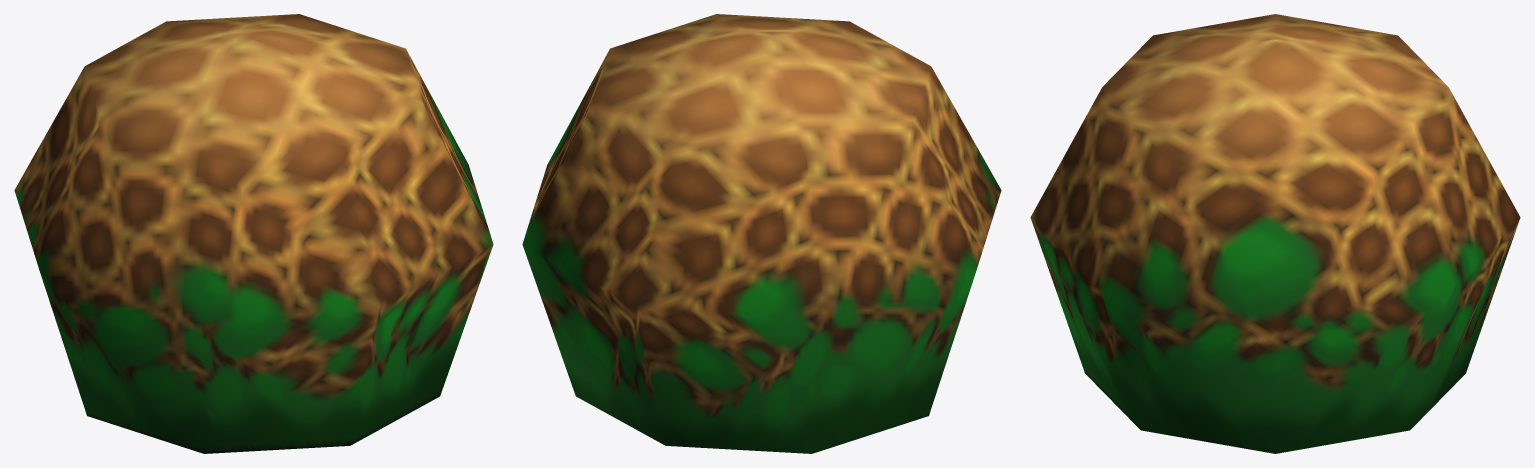
File: Coral_27a.FBX
3 views of the same model, side by side, from view 1: azimuth 30°, elevation 25°; view 2: azimuth 150°, elevation 25°; view 3: azimuth 270°, elevation 25° (orthographic).
Visible parts, largest first — view 1: Coral_27a; view 2: Coral_27a; view 3: Coral_27a.
Part boxes in pixels (box(x1,y1,x2,y2)): Coral_27a: box(14, 14, 493, 453); Coral_27a: box(522, 14, 1001, 453); Coral_27a: box(1030, 14, 1520, 453).
Size of the model in its own units: 23.88 by 17.79 by 23.88.
